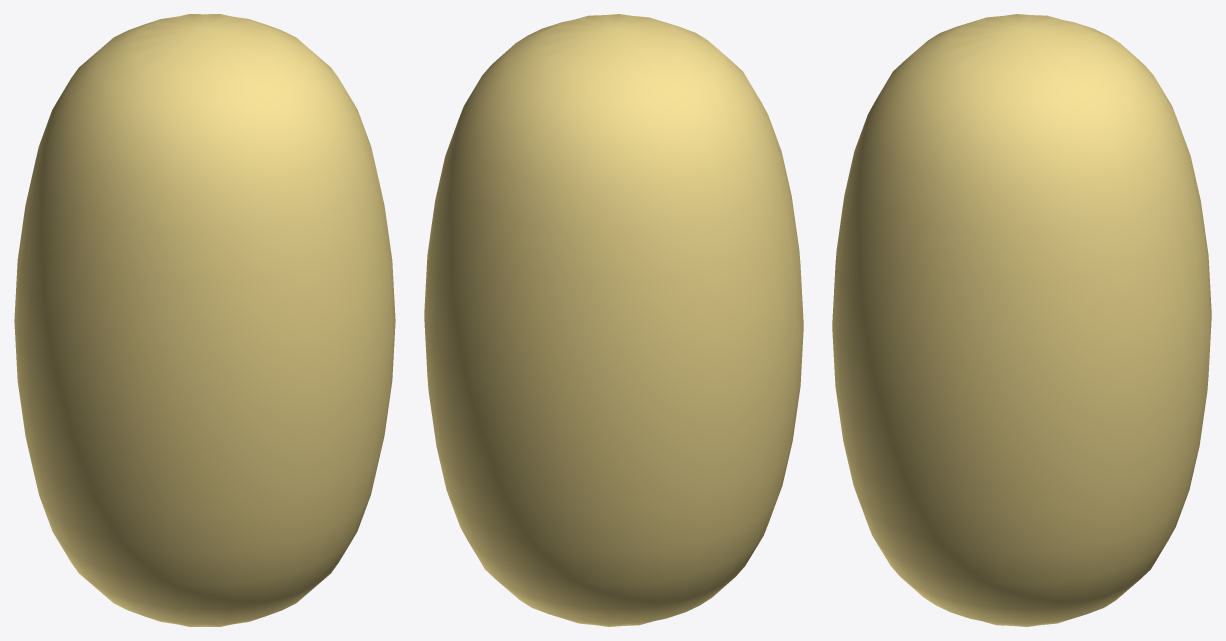
3 views of the same model, side by side, from view 1: azimuth 30°, elevation 25°; view 2: azimuth 150°, elevation 25°; view 3: azimuth 270°, elevation 25° (orthographic).
Visible parts, largest first — view 1: ZA_a67a39d3905d54ba; view 2: ZA_a67a39d3905d54ba; view 3: ZA_a67a39d3905d54ba.
Boxes of the visible parts, box(x1,y1,x2,y2) form: ZA_a67a39d3905d54ba: box(14, 14, 395, 626); ZA_a67a39d3905d54ba: box(424, 14, 803, 626); ZA_a67a39d3905d54ba: box(832, 14, 1211, 626).
Bounding box in the file's own units: 0.0019 × 0.00323 × 0.0019.
